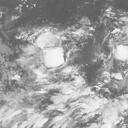cyclone: (33, 29, 77, 77)
